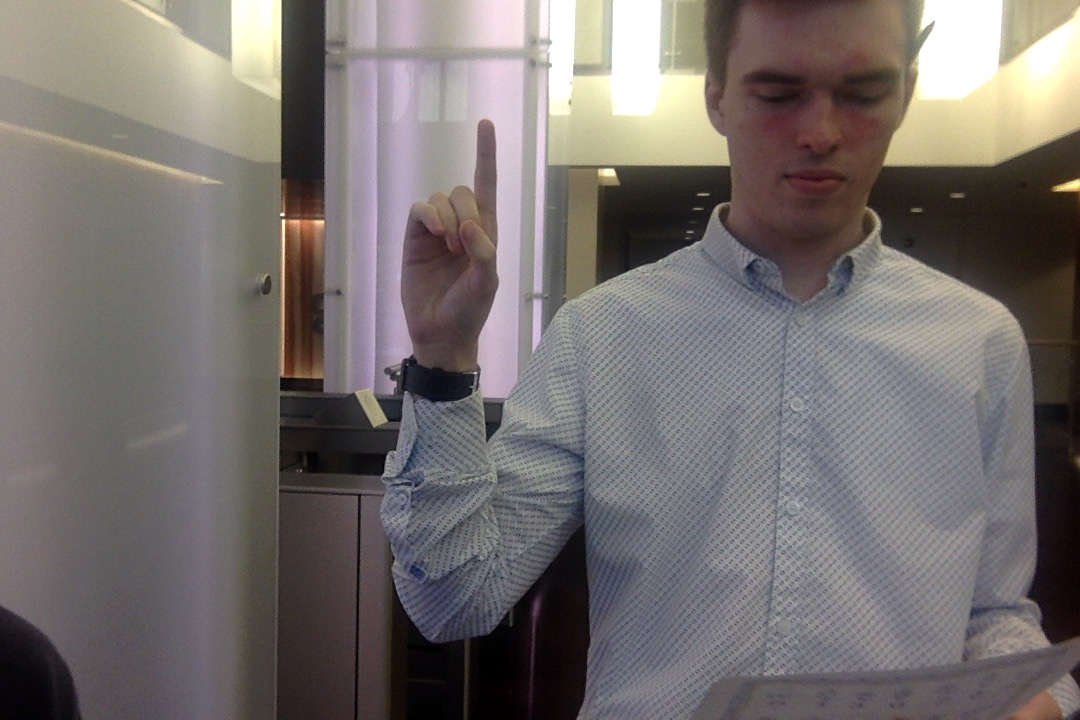d: (392, 112, 505, 360)
